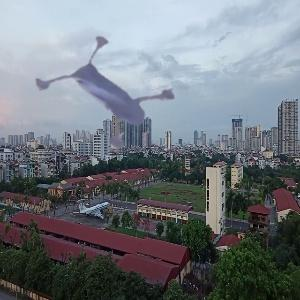drone: (11, 8, 194, 191)
